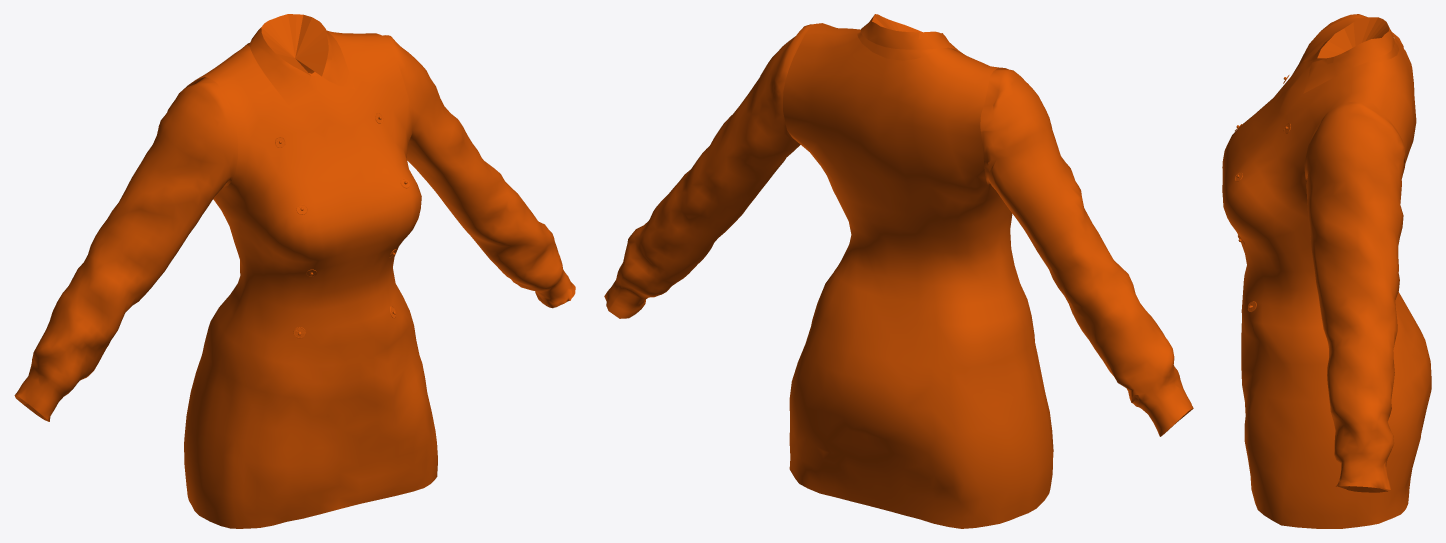
Rendered from vestidofem6.glb.
The picture shows the model from 3 angles, left to right: view 1: azimuth 30°, elevation 25°; view 2: azimuth 150°, elevation 25°; view 3: azimuth 270°, elevation 25°; orthographic projection. The views are drawn at different scales.
Visible parts, largest first — view 1: hash_6FE9C3A5.model; view 2: hash_6FE9C3A5.model; view 3: hash_6FE9C3A5.model.
Part boxes in pixels (bbox=[...]): hash_6FE9C3A5.model: bbox=[14, 14, 575, 528]; hash_6FE9C3A5.model: bbox=[604, 14, 1193, 528]; hash_6FE9C3A5.model: bbox=[1222, 14, 1431, 528].
Bounding box in the file's own units: 1.04 × 0.8141 × 0.3414.
